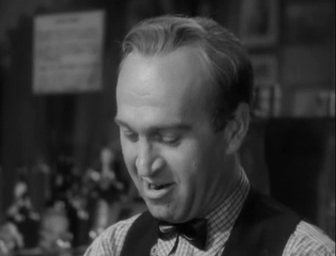cu: (1, 1, 336, 256)
face: (114, 88, 213, 223)
person: (81, 12, 334, 256)
